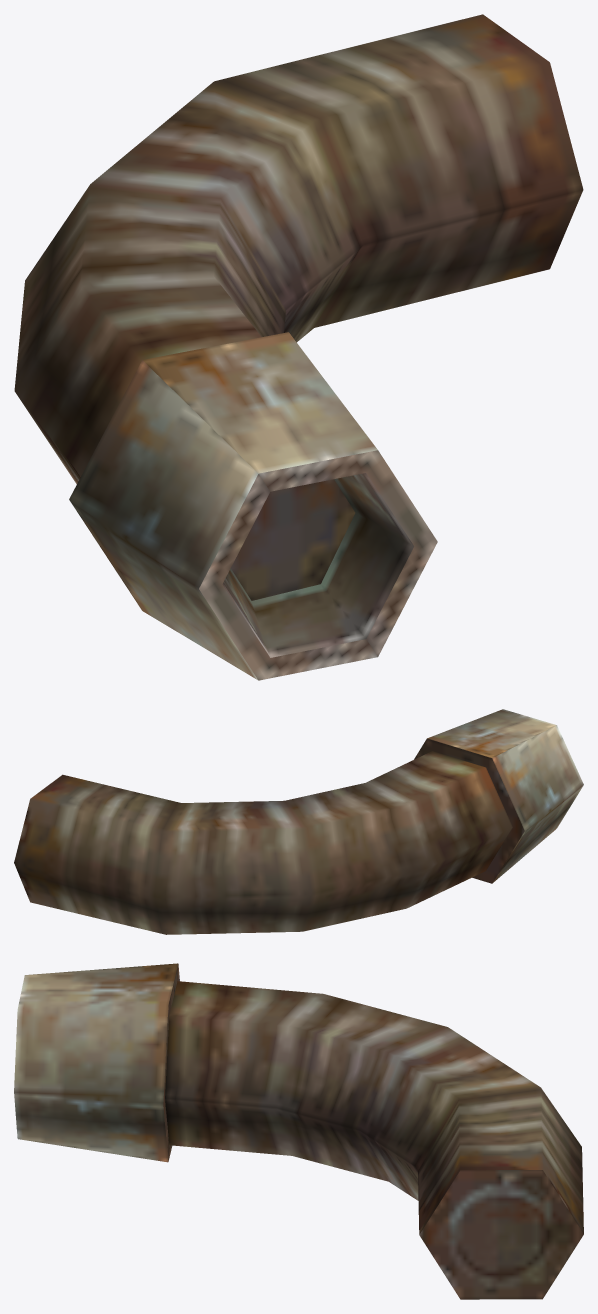
Rendered from tyt_arch_fleshraider_junk_17.glb.
The picture shows the model from 3 angles, top to bottom: view 1: azimuth 30°, elevation 25°; view 2: azimuth 150°, elevation 25°; view 3: azimuth 270°, elevation 25°; orthographic projection. The views are drawn at different scales.
Visible parts, largest first — view 1: tyt_arch_fleshraider_junk_17; view 2: tyt_arch_fleshraider_junk_17; view 3: tyt_arch_fleshraider_junk_17.
Part boxes in pixels (box(x1,y1,x2,y2)): tyt_arch_fleshraider_junk_17: box(14, 14, 583, 680); tyt_arch_fleshraider_junk_17: box(14, 709, 583, 934); tyt_arch_fleshraider_junk_17: box(14, 963, 583, 1299).
Bounding box in the file's own units: 0.1277 × 0.0436 × 0.1435.
Materials: 1 (1 with a texture image).
